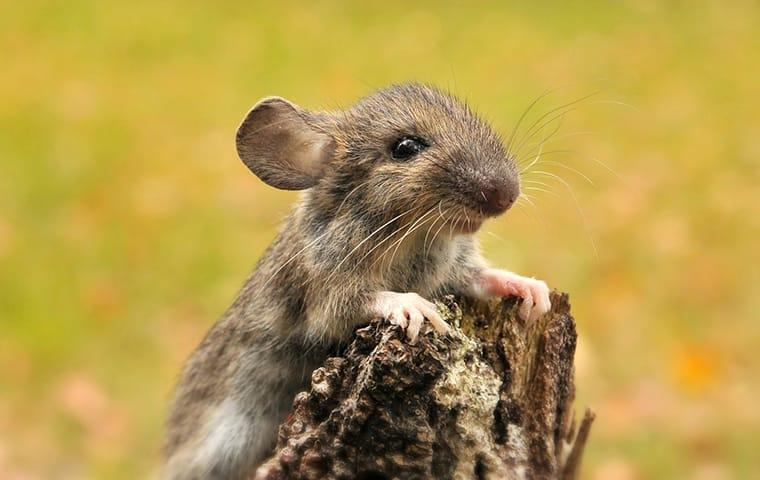rat: (166, 81, 552, 479)
